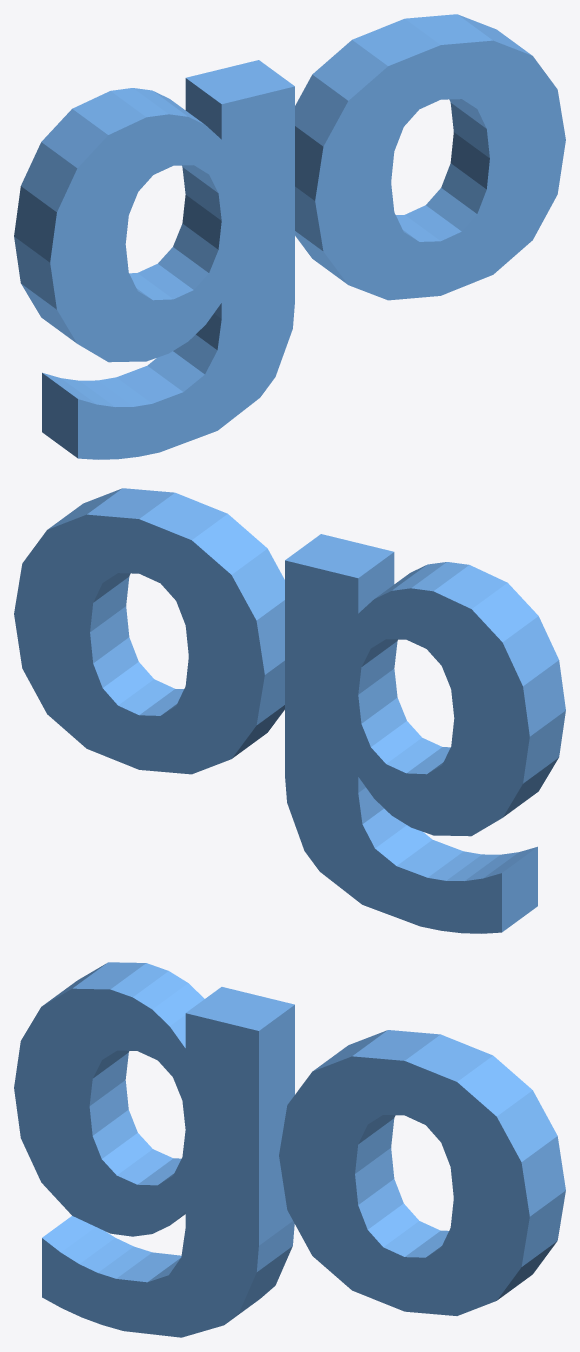
Rendered from suku_kecil_go.glb.
3 renders of one model, top to bottom at view 1: azimuth 30°, elevation 25°; view 2: azimuth 150°, elevation 25°; view 3: azimuth 330°, elevation 25°, orthographic.
Parts seen in each view (by area): view 1: geometry_0; view 2: geometry_0; view 3: geometry_0.
Part boxes in pixels (x1,y1,x2,y2): geometry_0: (14, 14, 565, 459); geometry_0: (14, 488, 565, 933); geometry_0: (14, 962, 565, 1337).
Bounding box in the file's own units: 12.36 × 7.76 × 1.5.
